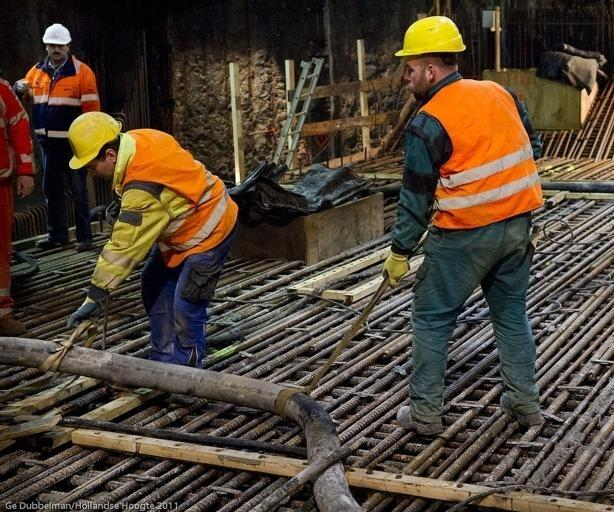bota: (394, 390, 444, 434), (501, 387, 548, 427)
capacete: (390, 16, 484, 64), (65, 109, 119, 165), (38, 21, 79, 46)
luva: (63, 295, 110, 326), (378, 254, 412, 284)
pessoa: (368, 20, 556, 432), (61, 106, 233, 389), (21, 23, 101, 256)
uniforme seguranca: (377, 89, 555, 246), (123, 129, 242, 268), (25, 59, 97, 131)
